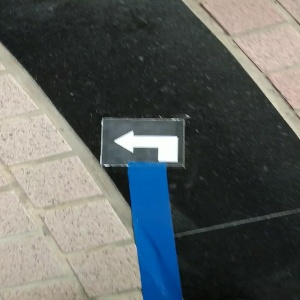left: (100, 115, 187, 167)
